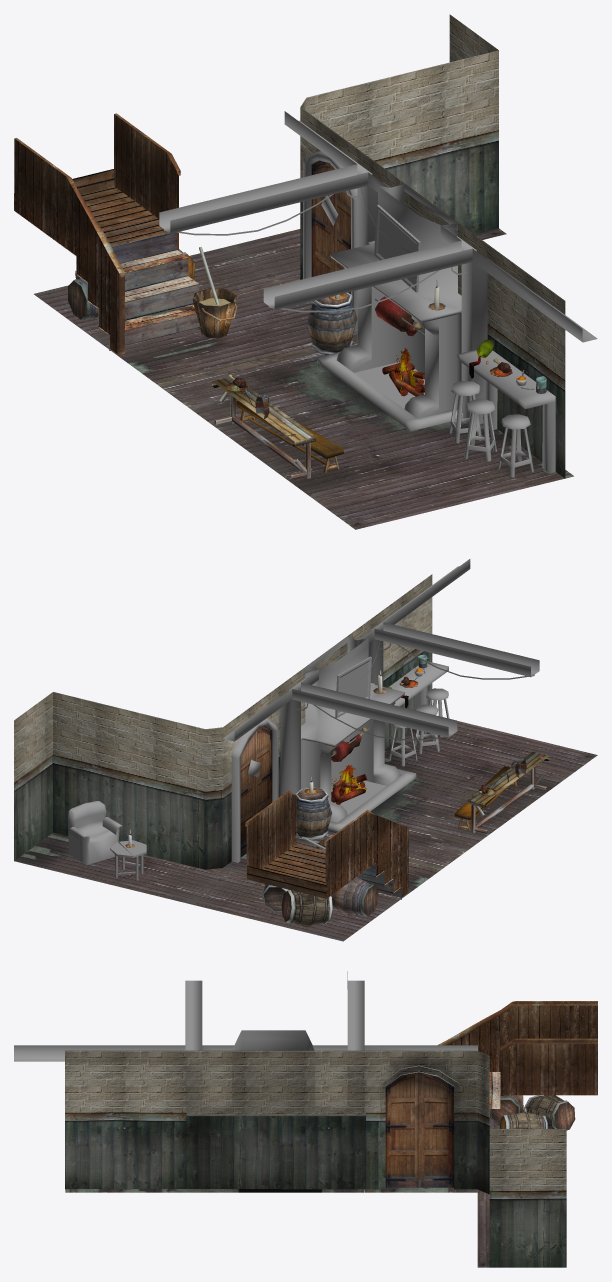
Rendered from Tavern.obj.
3 views of the same model, one above another, from view 1: azimuth 30°, elevation 25°; view 2: azimuth 150°, elevation 25°; view 3: azimuth 270°, elevation 25° (orthographic). The views are drawn at different scales.
Parts seen in each view (by area): view 1: Wall_Ground; view 2: Wall_Ground; view 3: Wall_Ground.
Boxes of the visible parts, bbox=[...] form: Wall_Ground: bbox=[14, 14, 597, 529]; Wall_Ground: bbox=[14, 559, 597, 941]; Wall_Ground: bbox=[14, 971, 597, 1267].
Bounding box in the file's own units: 177 × 77.03 × 273.
